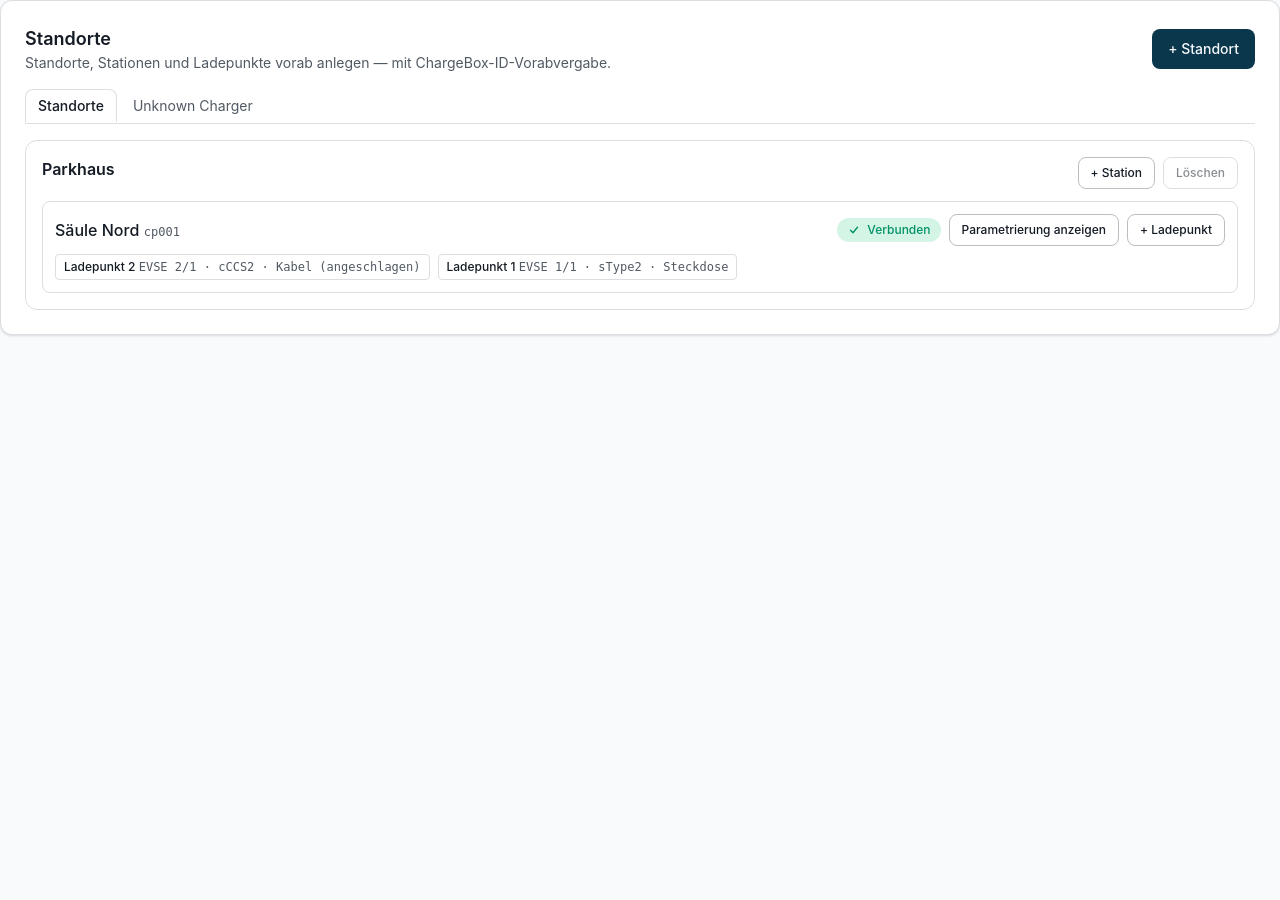
Test: LocationsPage station parameters › keeps the parameters of an already linked station hidden until asked
Expected: the element "An der Ladesäule eintragen" is not shown
Click the button "Parametrierung anzeigen" at point(1034, 230), box [949, 214, 1119, 246]
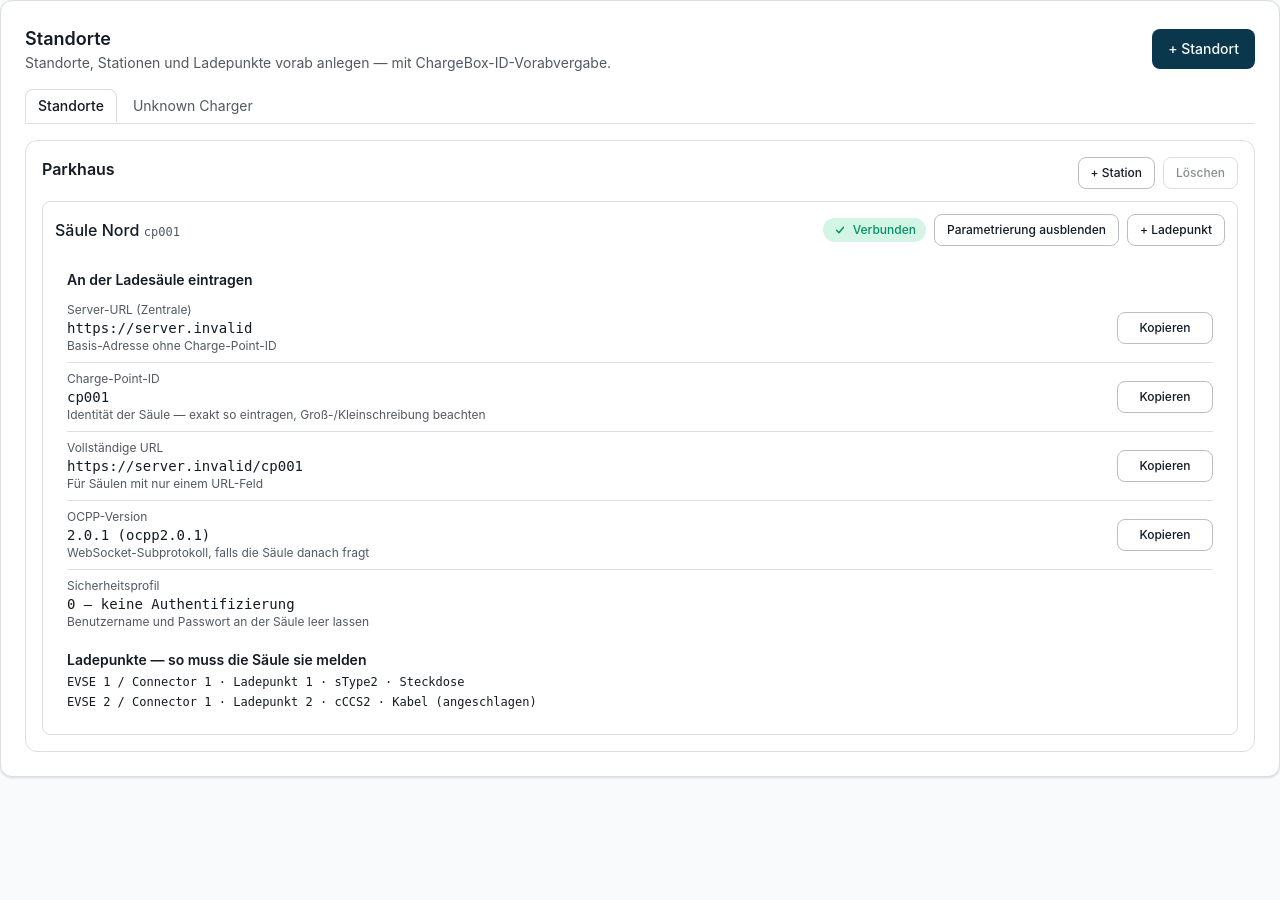
Now the element "An der Ladesäule eintragen" is shown, box [55, 258, 1225, 722]
Now the button "Parametrierung ausblenden" is expanded, box [934, 214, 1119, 246]
